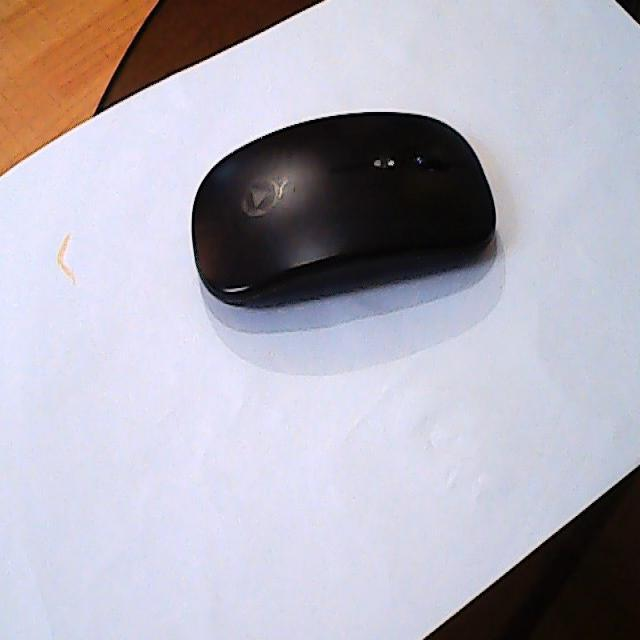mouse: (148, 104, 493, 326)
